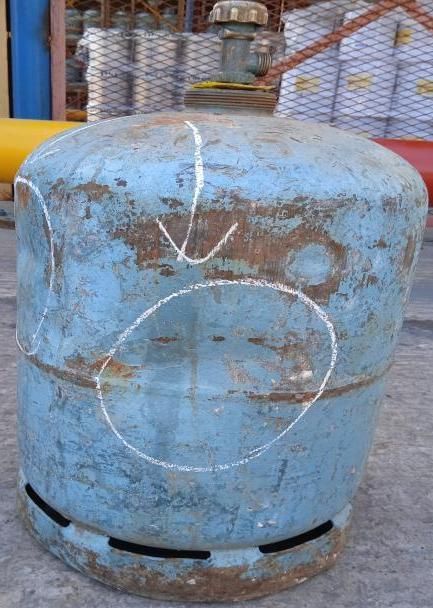cylinder: (1, 0, 433, 608)
